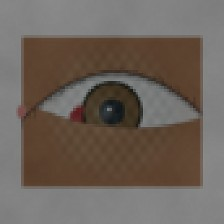hemorrhage_spot: (61, 90, 126, 142)
